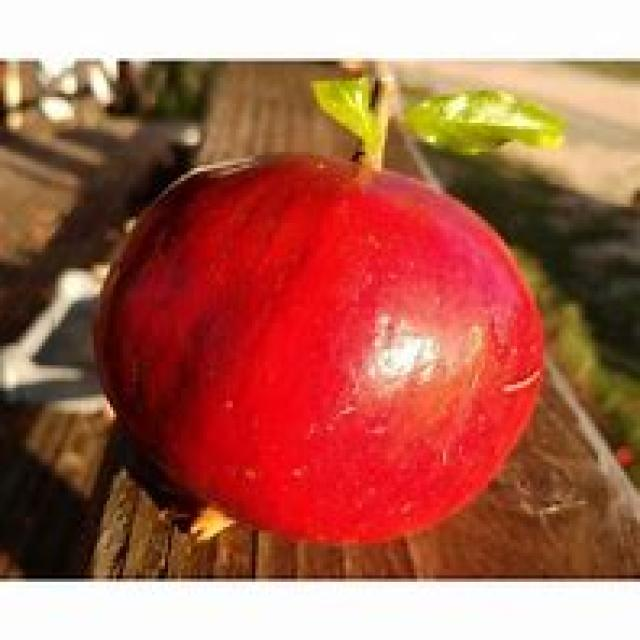Pomegranate: (84, 151, 550, 549)
